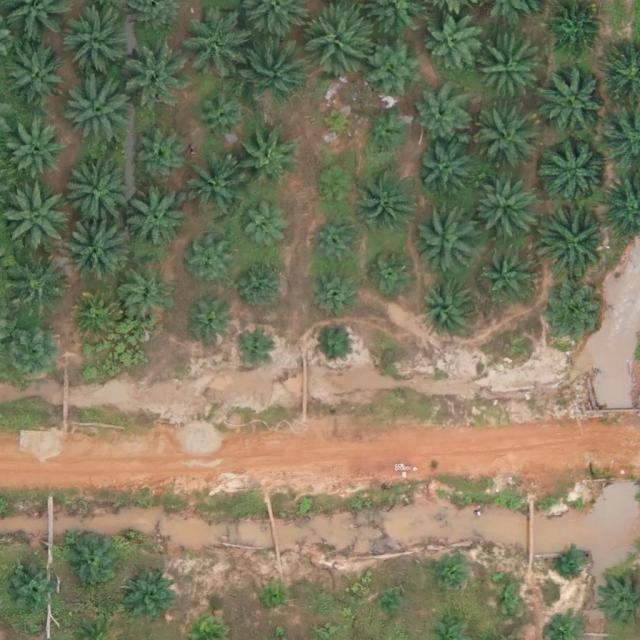Healthy: (541, 136, 612, 207), (541, 206, 611, 277), (239, 33, 309, 104), (63, 215, 133, 286), (58, 155, 128, 226), (60, 74, 130, 145), (62, 9, 132, 80), (539, 67, 609, 137), (302, 5, 372, 75), (121, 37, 191, 107), (542, 286, 605, 349), (472, 178, 535, 241), (359, 169, 422, 232), (478, 40, 540, 103), (475, 110, 537, 173), (365, 36, 427, 99), (235, 128, 297, 191), (181, 159, 243, 222), (181, 16, 243, 79), (125, 189, 187, 252), (4, 44, 66, 107), (5, 254, 67, 317), (417, 210, 479, 272), (4, 562, 59, 617), (483, 251, 538, 306), (422, 282, 477, 337), (415, 90, 470, 145), (306, 267, 361, 322), (68, 291, 123, 346), (194, 89, 249, 144), (120, 270, 175, 325), (11, 127, 66, 182), (5, 328, 60, 383), (417, 144, 471, 200), (67, 534, 121, 589), (426, 15, 480, 70), (312, 216, 366, 271), (135, 133, 189, 188)
Small: (239, 205, 286, 253), (240, 260, 287, 308), (364, 110, 411, 158), (127, 577, 174, 624), (369, 249, 416, 296), (189, 240, 236, 287), (187, 302, 234, 349), (314, 165, 361, 212), (316, 325, 355, 365), (318, 103, 357, 142), (233, 328, 272, 367), (553, 547, 584, 578), (493, 586, 524, 617), (435, 558, 466, 589), (378, 595, 402, 619), (262, 585, 285, 609)
